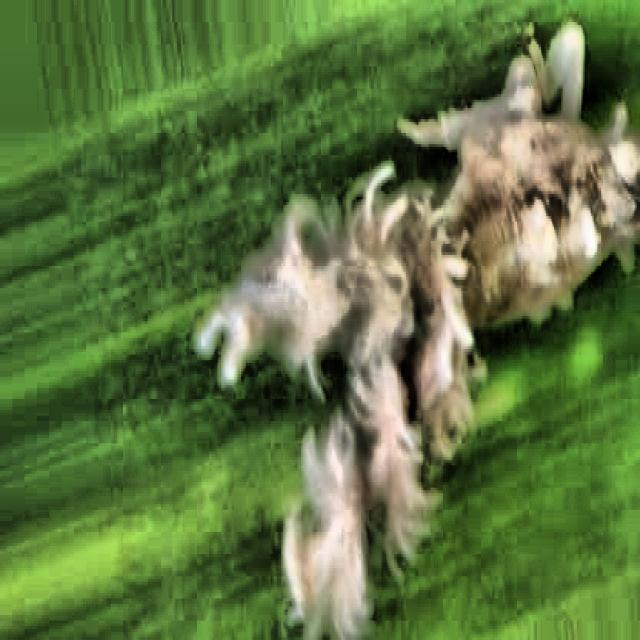Pyrilla-perpusilla: (201, 0, 638, 640)
